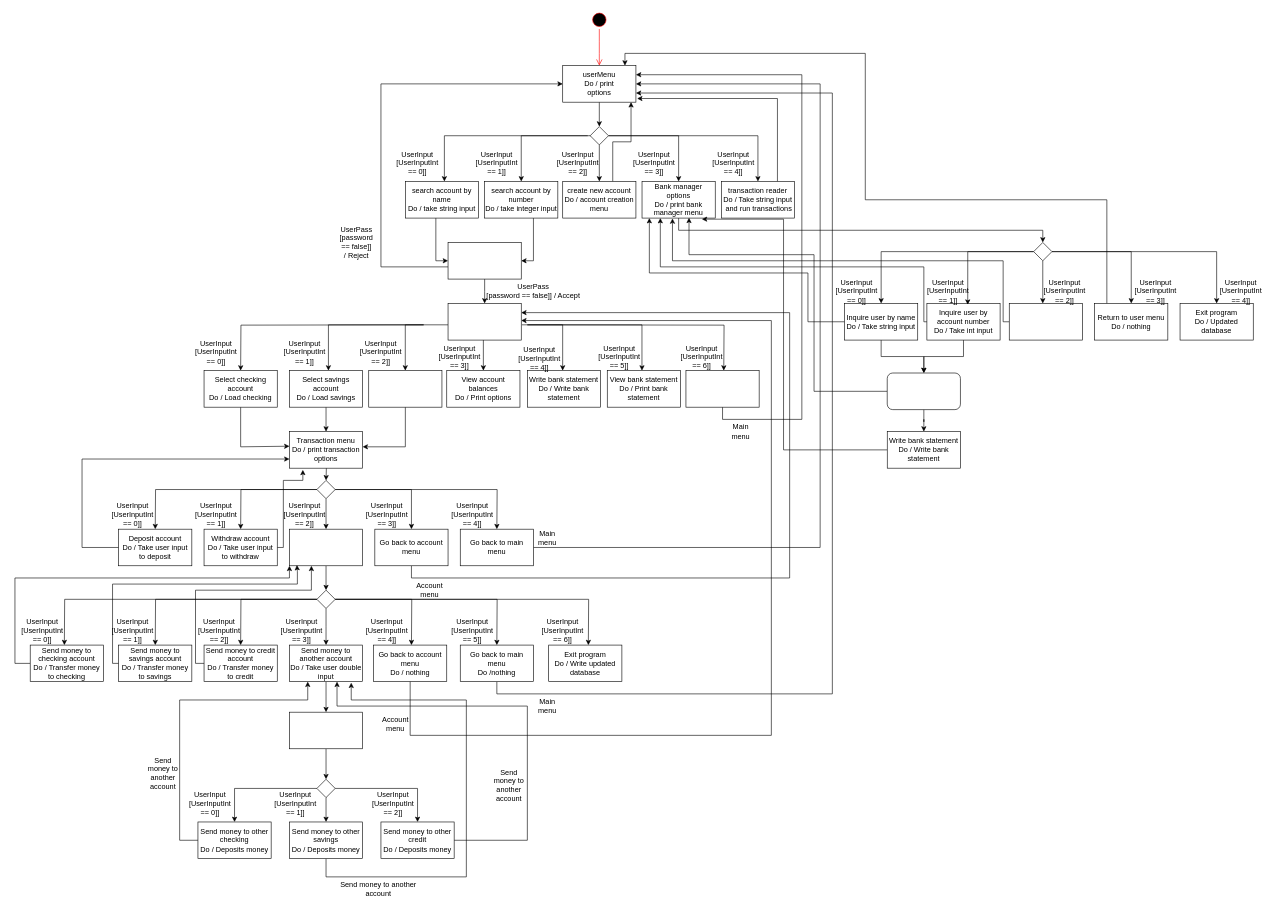
Some shapes in this 1272 by 908 pixel diagram are drawn without their labels. The box of each missing label's shape, as (x1, y1, x2, y2) in pixels:
Account menu Do / print account options: (447, 303, 521, 340)
Password checker Do / check password inputted: (447, 242, 521, 279)
Print all users' detail information Do / Print information: (1009, 303, 1082, 340)
Print bank user info Do / Print user info: (887, 372, 960, 410)
Print user list Do / Print all users and take user input: (289, 712, 363, 749)
Return to main menu Do / nothing: (685, 370, 759, 407)
Select credit account Do / Load credit: (368, 370, 442, 407)
Send money Do / Print transfer menu: (289, 529, 363, 566)
